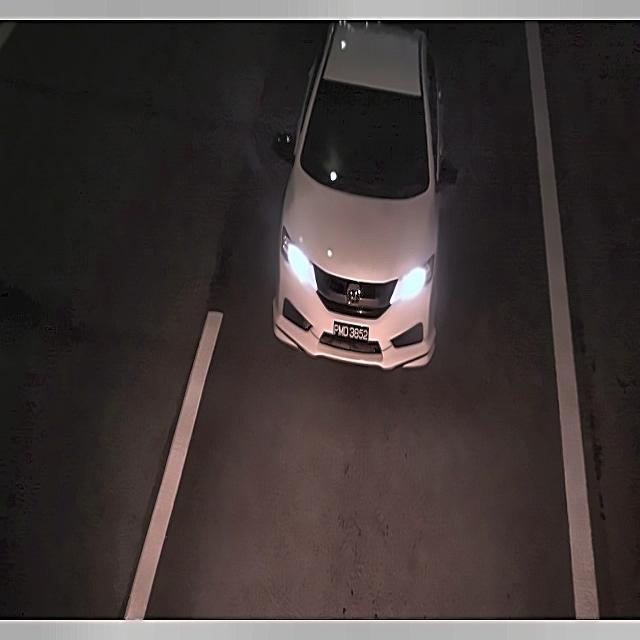car: (328, 315, 372, 347)
